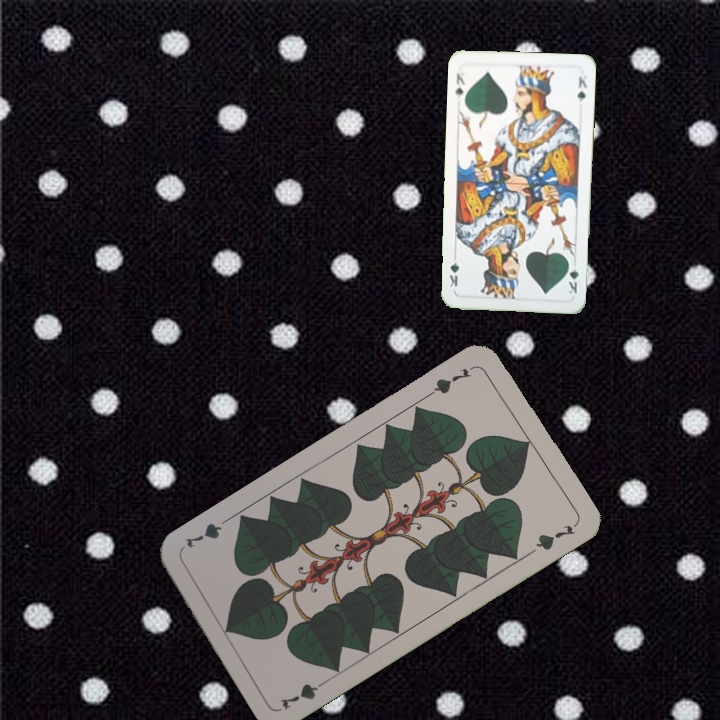G7: (276, 674, 332, 712), (425, 361, 478, 399)
GK: (564, 257, 581, 296), (451, 69, 467, 102)
